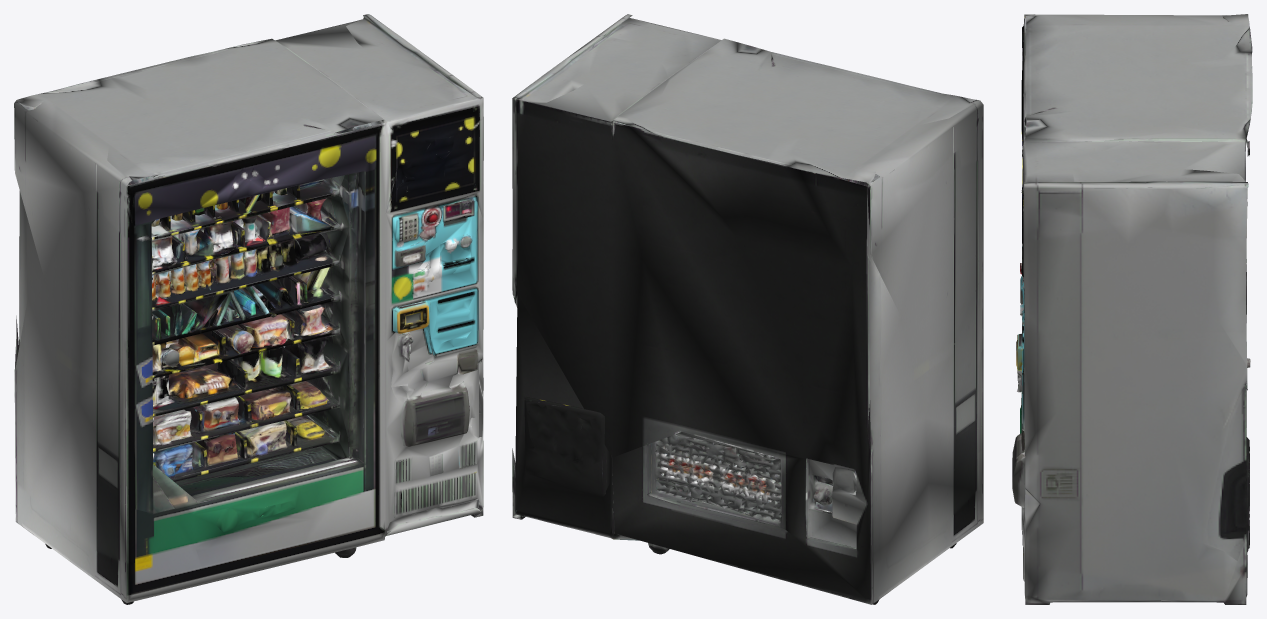
The model's file is Meshy_AI_A_single_vertical_rec_0517133053_texture.fbx.
3 views of the same model, side by side, from view 1: azimuth 30°, elevation 25°; view 2: azimuth 150°, elevation 25°; view 3: azimuth 270°, elevation 25° (orthographic).
Visible parts, largest first — view 1: Mesh_0; view 2: Mesh_0; view 3: Mesh_0.
Part boxes in pixels (x1,y1,x2,y2): Mesh_0: [14, 14, 483, 604]; Mesh_0: [512, 14, 983, 604]; Mesh_0: [1012, 14, 1252, 604].
Bounding box in the file's own units: 163 × 190 × 95.22.
Materials: 1 (1 with a texture image).
